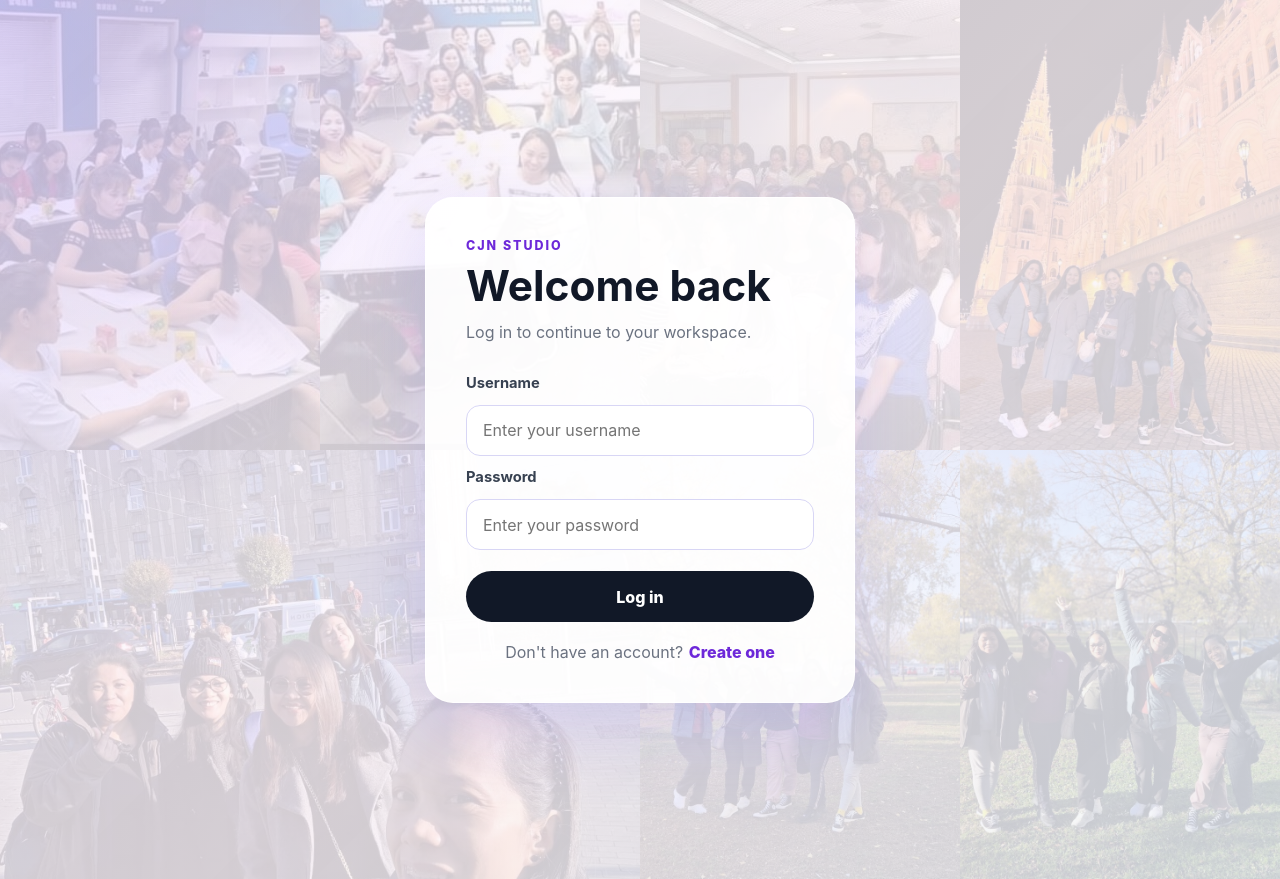
Test: loads saved applicants after login and shows them on the search tab
Type "wendell" into the field labelled "Username" at (640, 430), box x1=466 y1=405 x2=814 y2=456
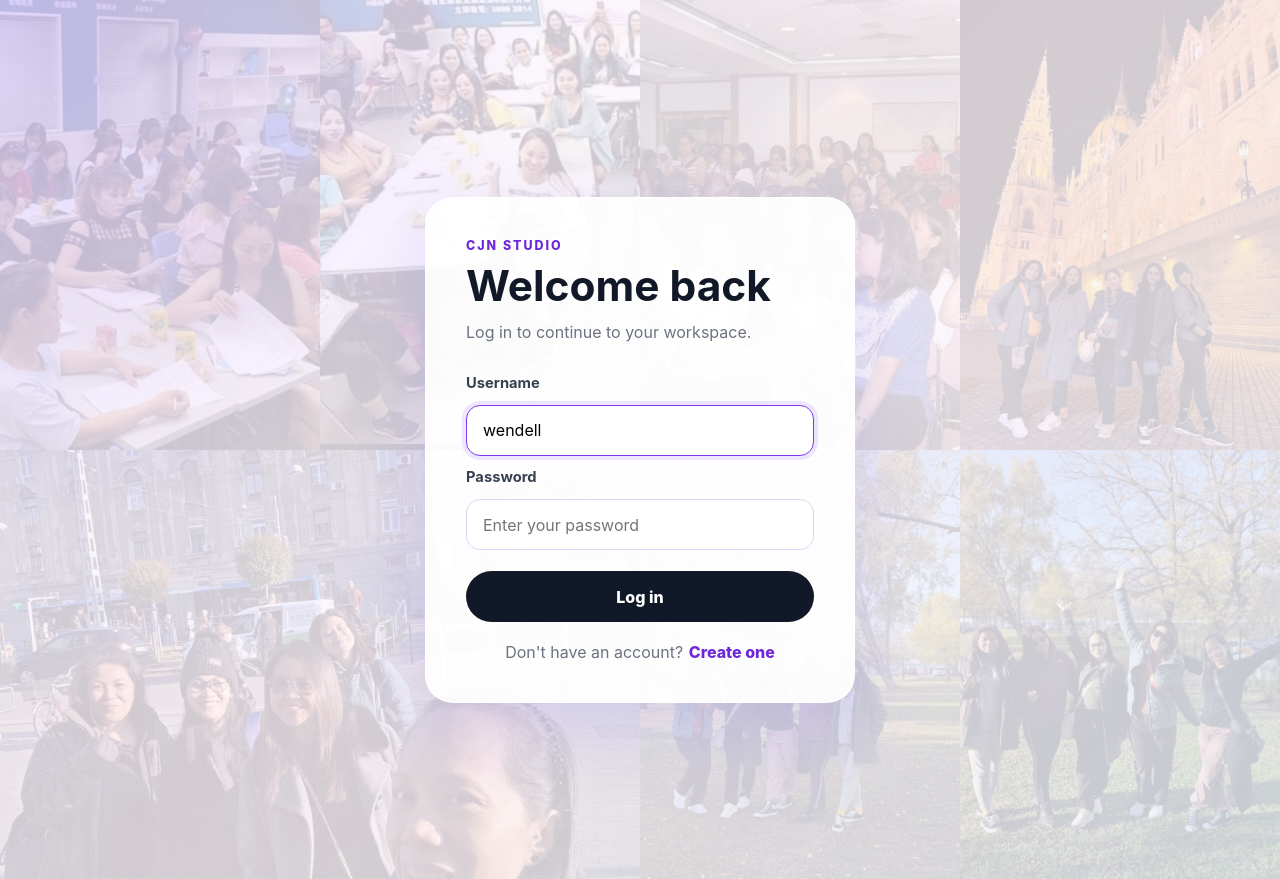
Type "password123" into the password field labelled "Password" at (640, 524), box x1=466 y1=499 x2=814 y2=550
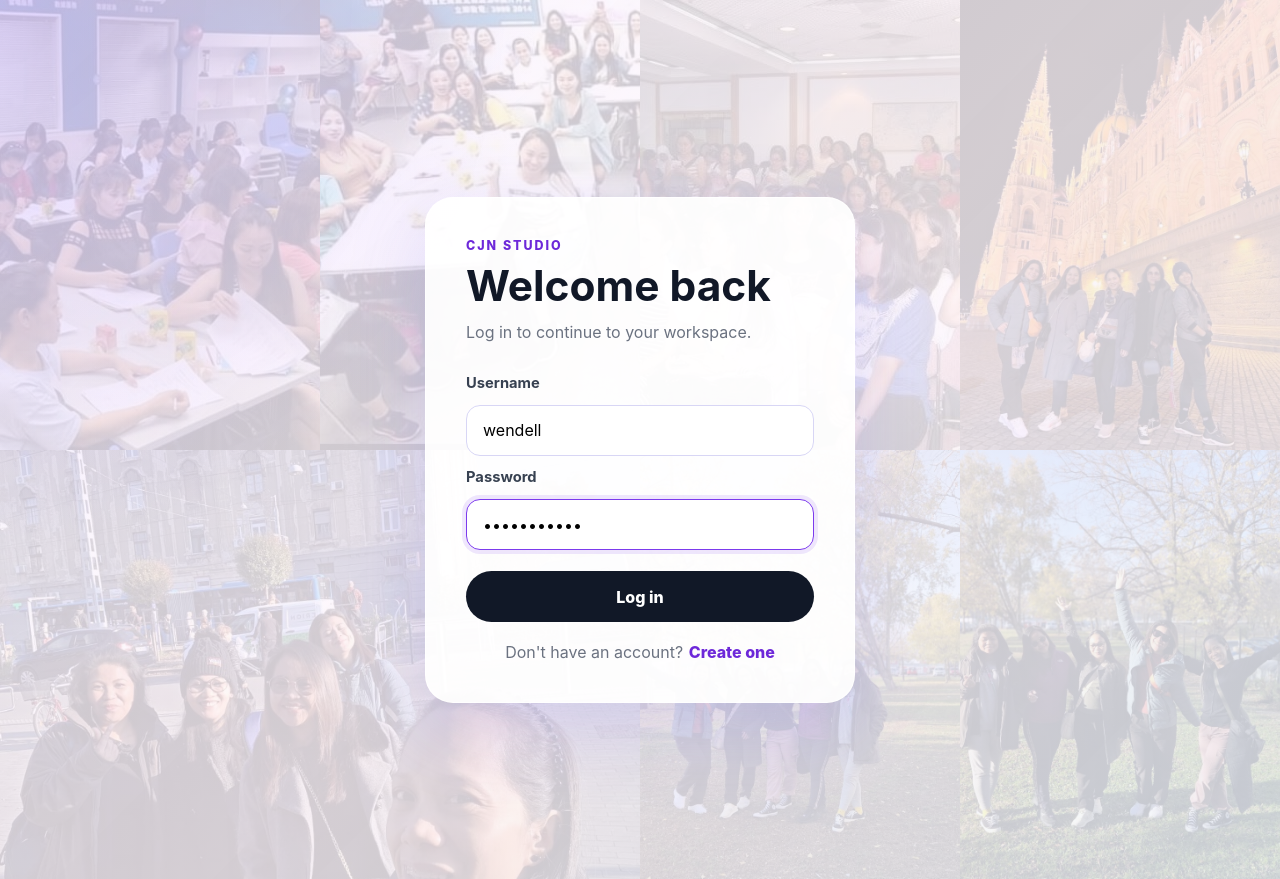
Click the button "Log in" at (640, 597), box x1=466 y1=572 x2=814 y2=622
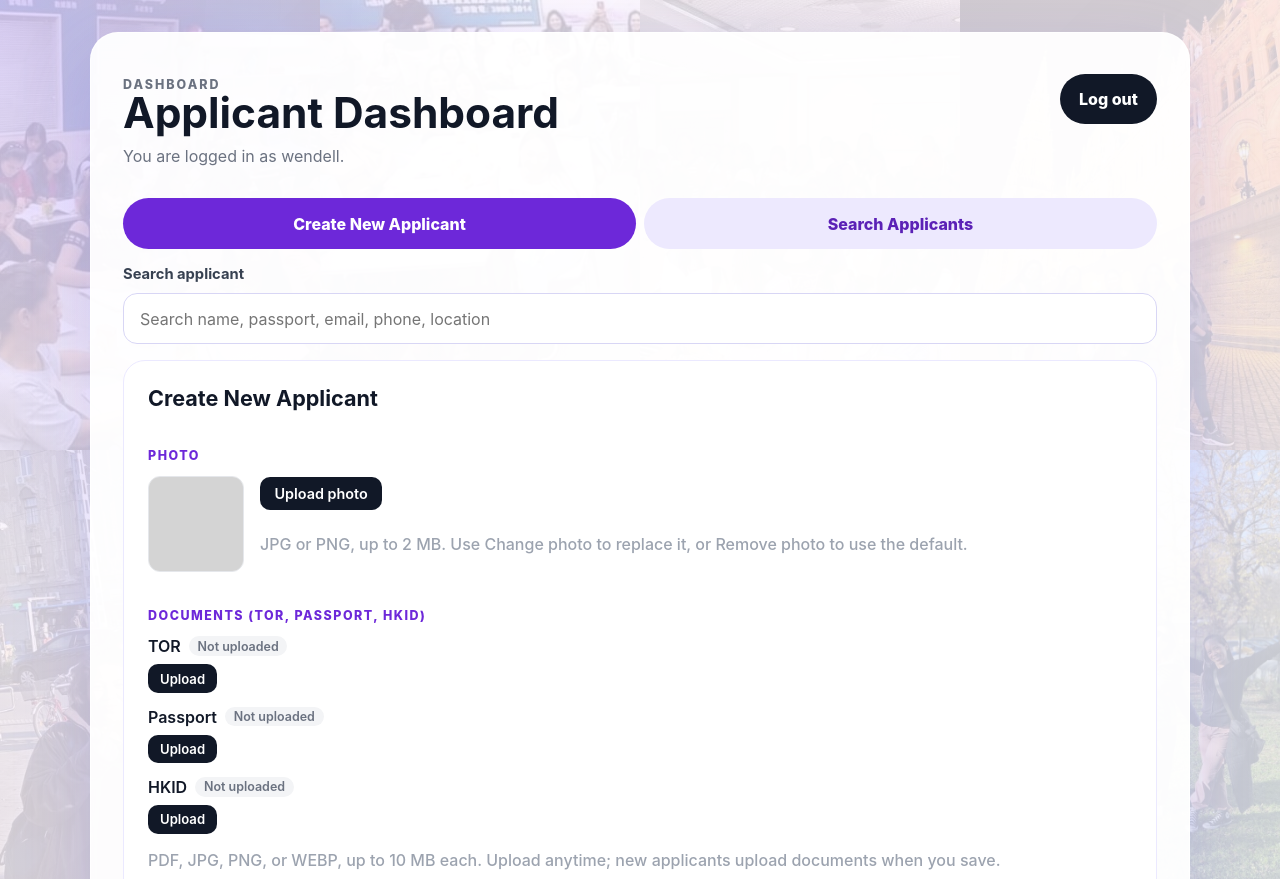
Check: the text "Maria Santos Reyes" is not shown
Click the button "Search Applicants" at (900, 224), box x1=644 y1=198 x2=1157 y2=249
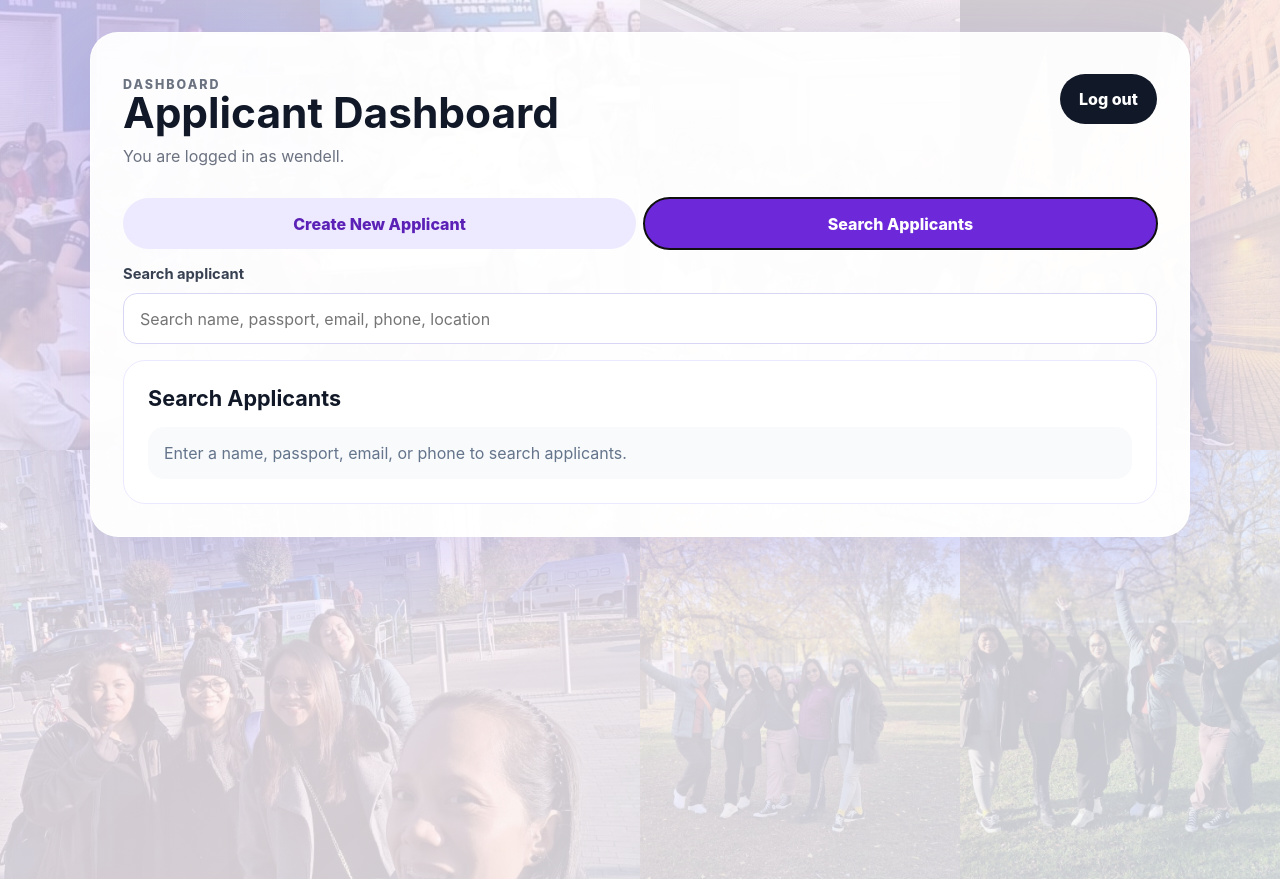
Check: the text "Maria Santos Reyes" is not shown
Check: the text "Enter a name, passport, email, or phone to search applicants" is shown, box x1=164 y1=443 x2=627 y2=463
Type "Maria" into the field labelled "Search applicant" at (640, 319), box x1=123 y1=293 x2=1157 y2=344
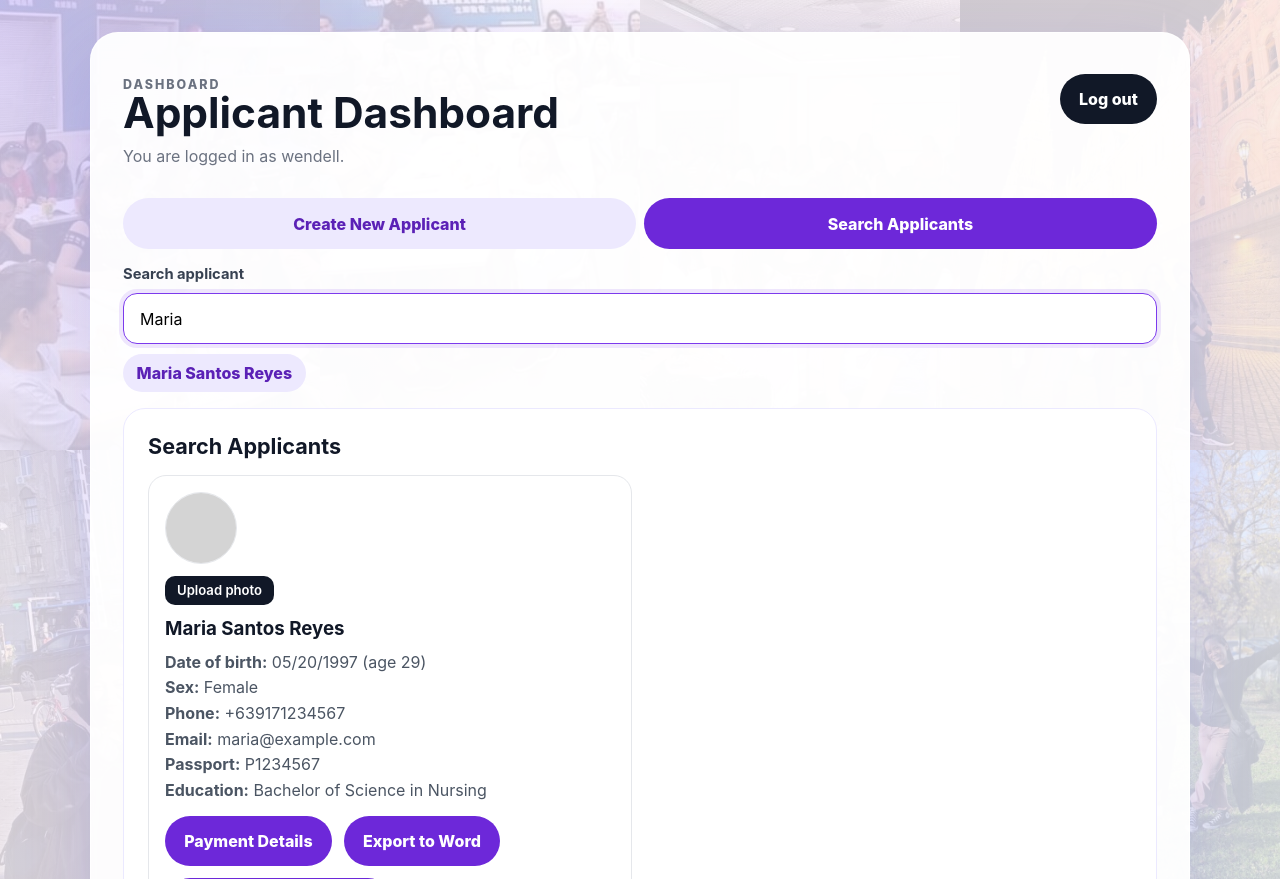
Check: the heading "Maria Santos Reyes" is shown, box x1=165 y1=617 x2=344 y2=640
